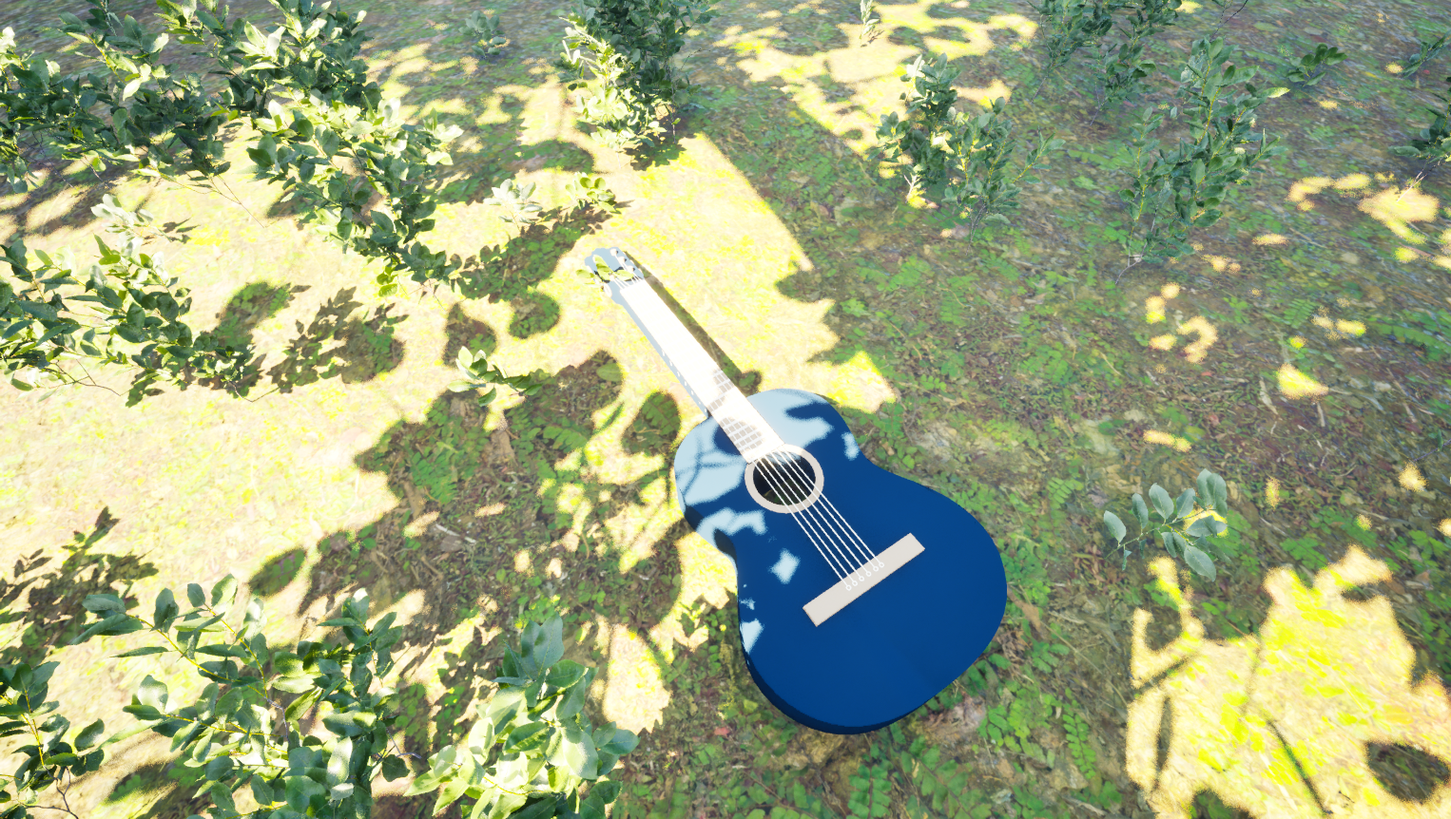Guitar: (502, 207, 1056, 789)
